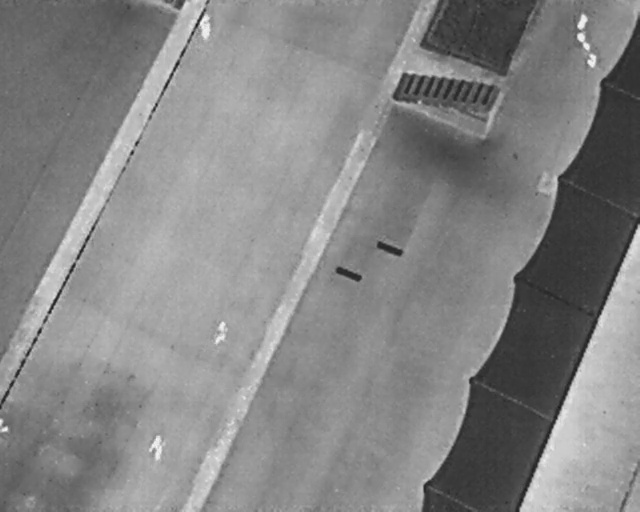Person: (210, 317, 231, 348), (146, 433, 166, 462), (198, 12, 213, 41), (0, 417, 11, 436)
